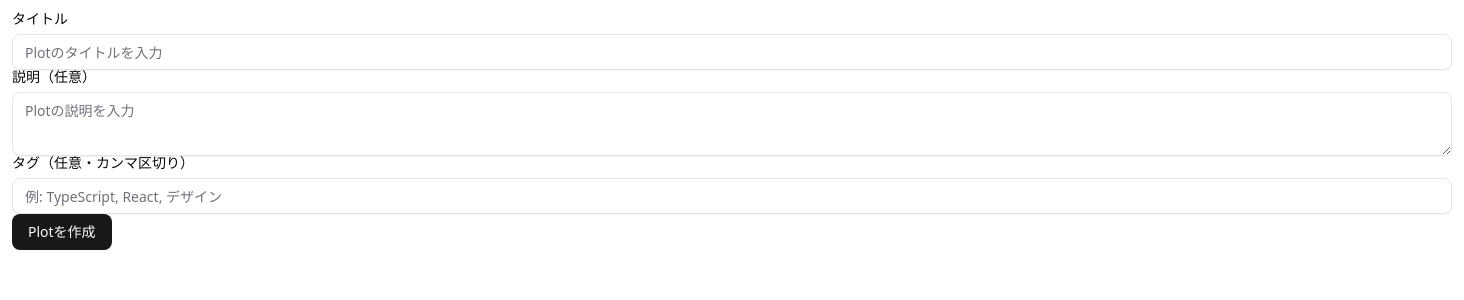
PlotForm › タグ機能 › カンマ区切りで複数タグを一度に追加できる
In the field with placeholder "例: TypeScript, React, デザイン": (732, 196) x1=12 y1=178 x2=1452 y2=214, type "React, TypeScript, Next.js"
Then press Enter
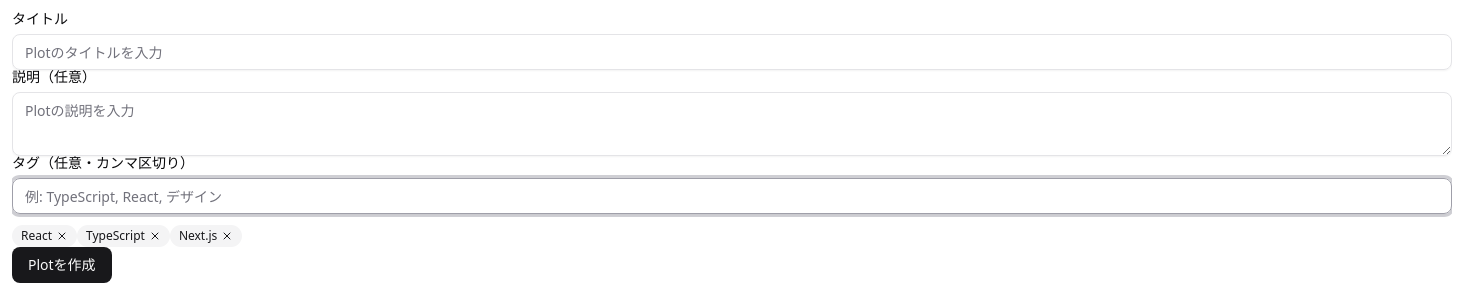
Expected: the text "React" is shown, x1=12 y1=225 x2=77 y2=247
Expected: the text "TypeScript" is shown, x1=77 y1=225 x2=170 y2=247
Expected: the text "Next.js" is shown, x1=170 y1=225 x2=242 y2=247
